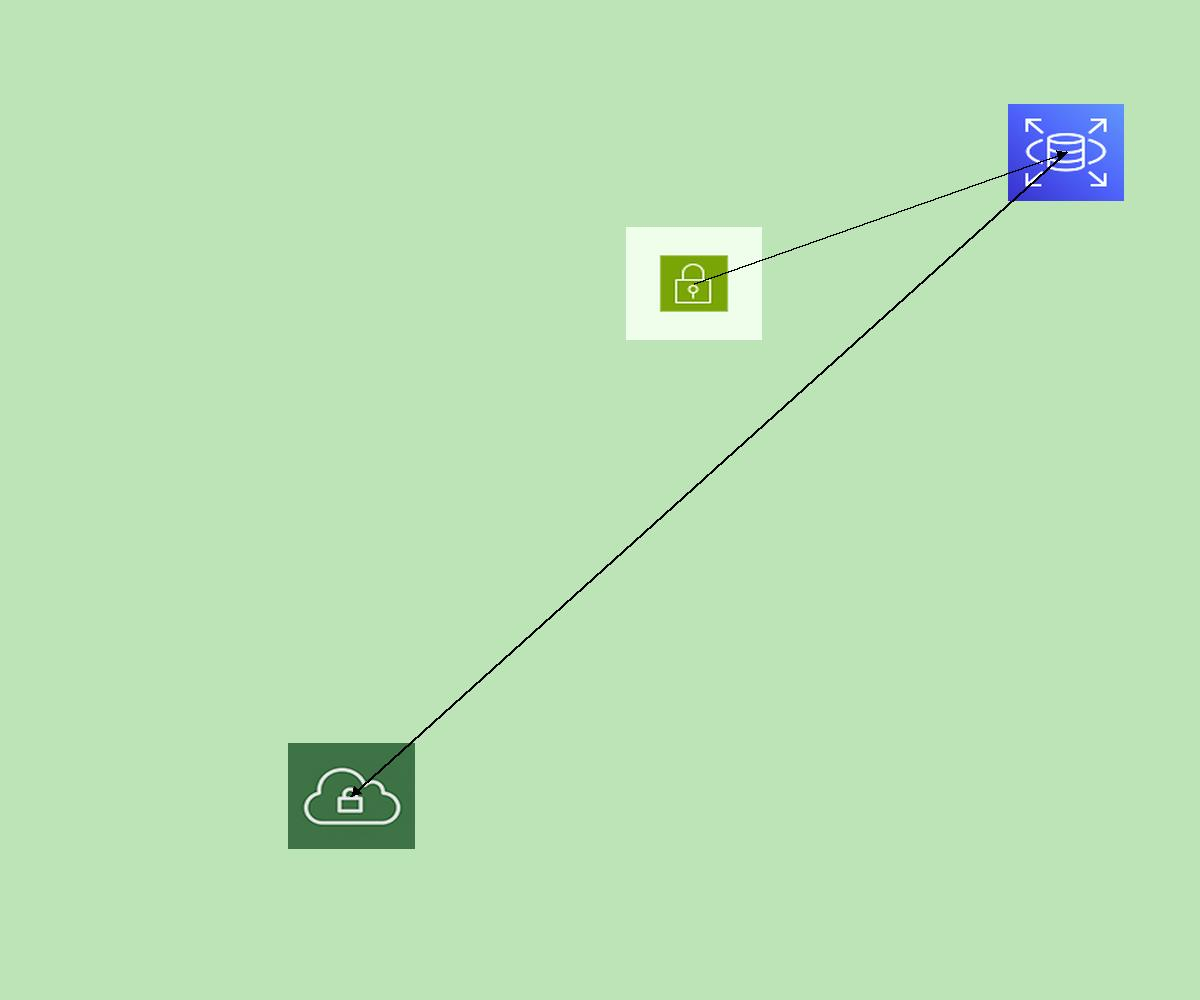AWS-Private_vpc: (288, 743, 415, 849)
AWS-Public-subnet: (626, 227, 762, 340)
AWS-RDS: (1008, 104, 1124, 201)
